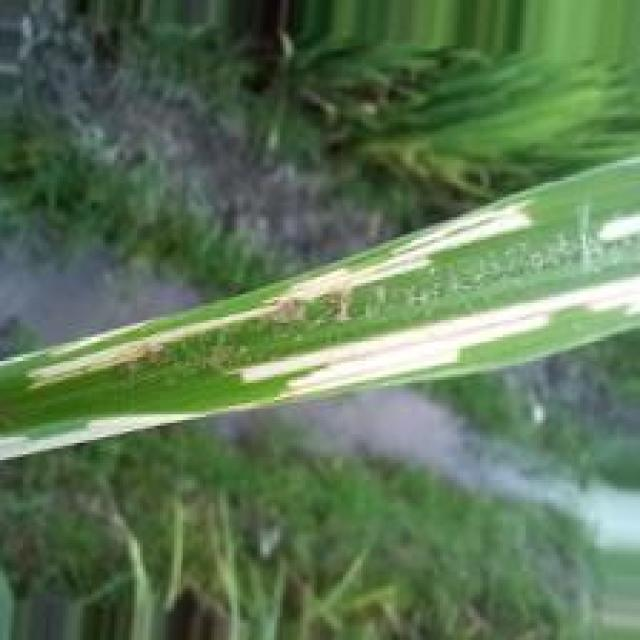Rice_Hispa: (26, 200, 536, 399), (232, 271, 640, 402), (595, 213, 637, 244)
